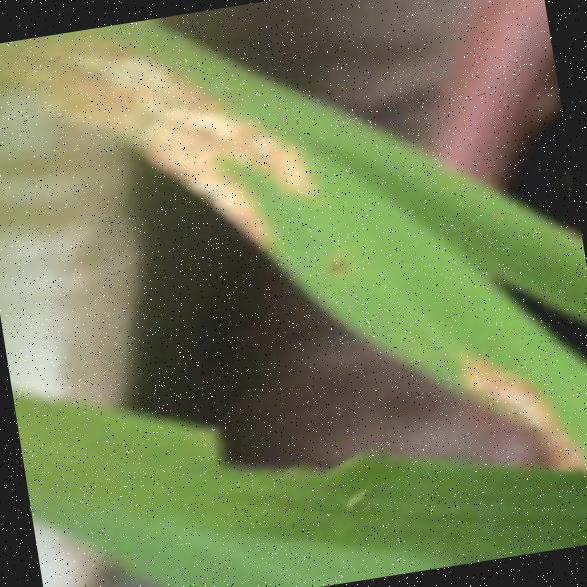Leaf_smut: (25, 15, 334, 279), (422, 306, 587, 493)
